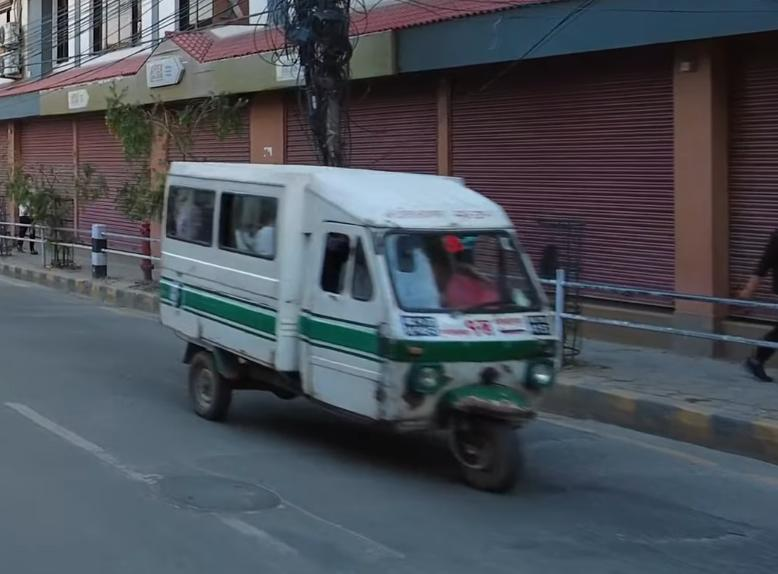tempo: (157, 154, 568, 501)
